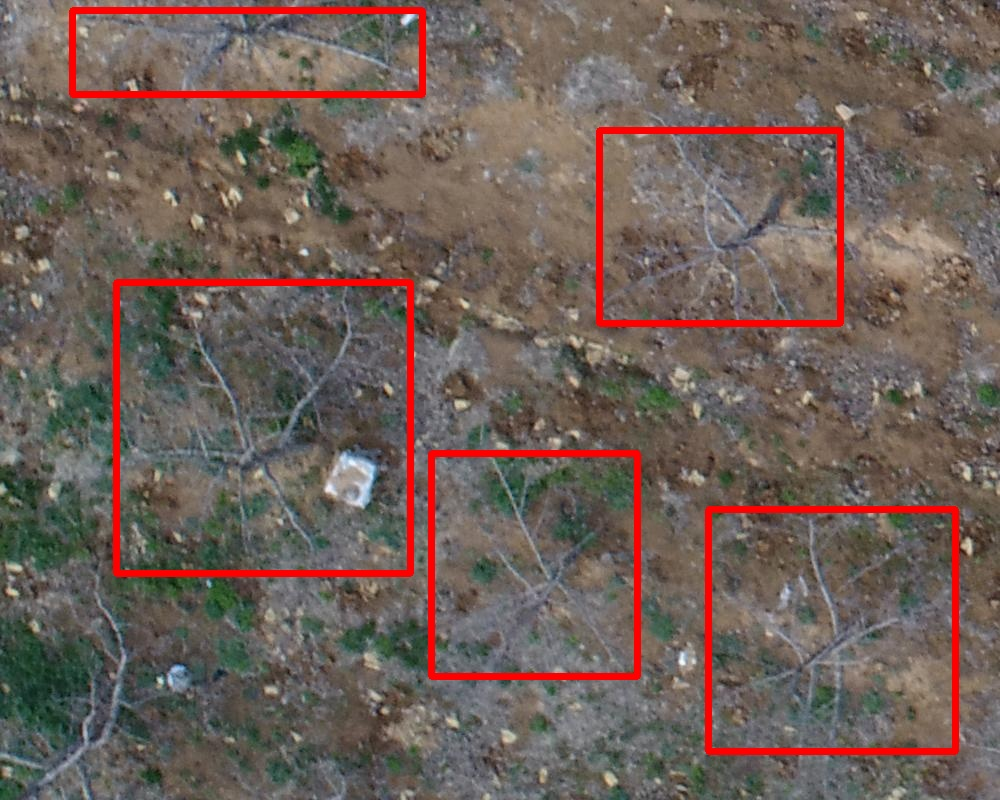apple: (116, 282, 410, 573), (708, 509, 955, 751), (599, 130, 840, 323), (431, 453, 637, 676), (72, 10, 422, 94)
